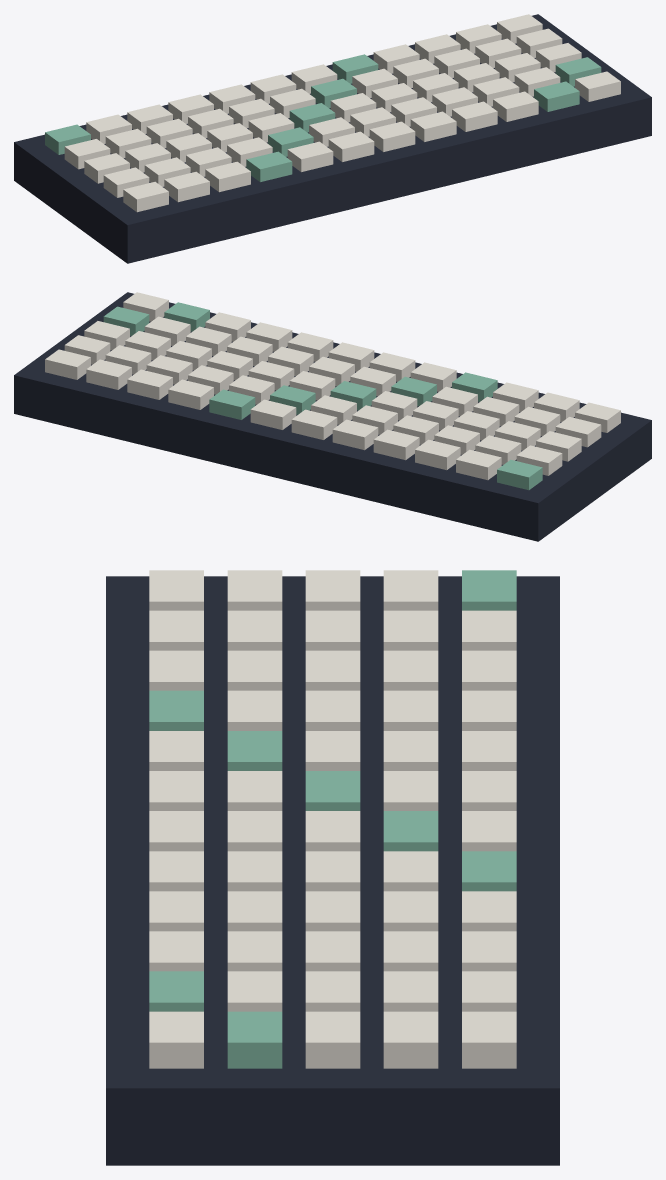
Rendered from keyboard-compact.glb.
3 views of the same model, one above another, from view 1: azimuth 30°, elevation 25°; view 2: azimuth 150°, elevation 25°; view 3: azimuth 270°, elevation 25° (orthographic). The views are drawn at different scales.
Visible parts, largest first — view 1: keyboard-compact; view 2: keyboard-compact; view 3: keyboard-compact.
Part boxes in pixels (x1=…): keyboard-compact: x1=14, y1=14, x2=651, y2=263; keyboard-compact: x1=14, y1=292, x2=651, y2=541; keyboard-compact: x1=106, y1=570, x2=559, y2=1165.
Bounding box in the file's own units: 32 × 3 × 12.
